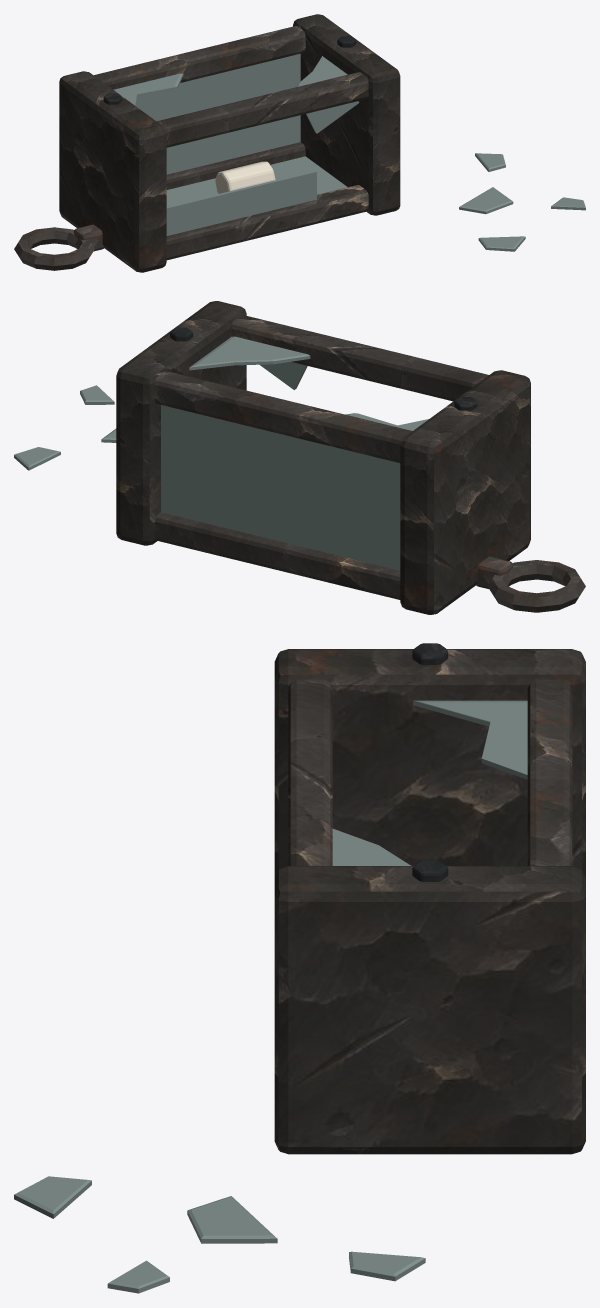
The model's file is junk_lantern.glb.
The picture shows the model from 3 angles, top to bottom: view 1: azimuth 30°, elevation 25°; view 2: azimuth 150°, elevation 25°; view 3: azimuth 270°, elevation 25°; orthographic projection. The views are drawn at different scales.
Visible parts, largest first — view 1: model; view 2: model; view 3: model.
Boxes of the visible parts, x1,y1,x2,y2 form: model: [14, 14, 585, 272]; model: [14, 301, 585, 614]; model: [14, 643, 585, 1293].
Bounding box in the file's own units: 0.6254 × 0.18 × 0.3342.
Materials: 6 (4 with a texture image).
